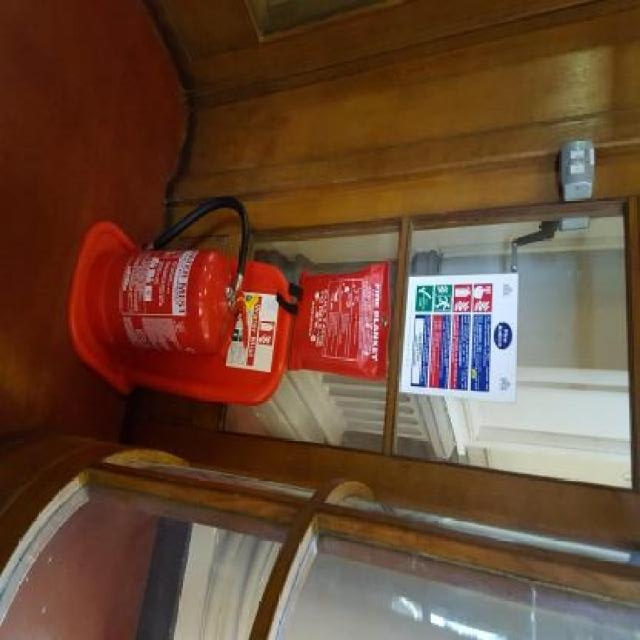fire extinguisher: (86, 194, 249, 361)
